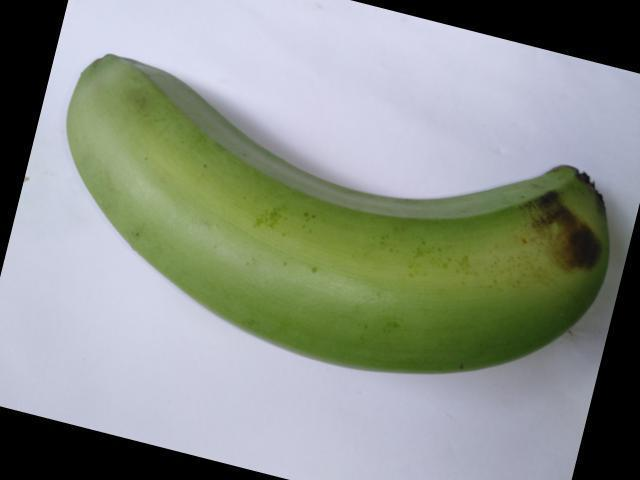freshunripe: (44, 40, 635, 383)
